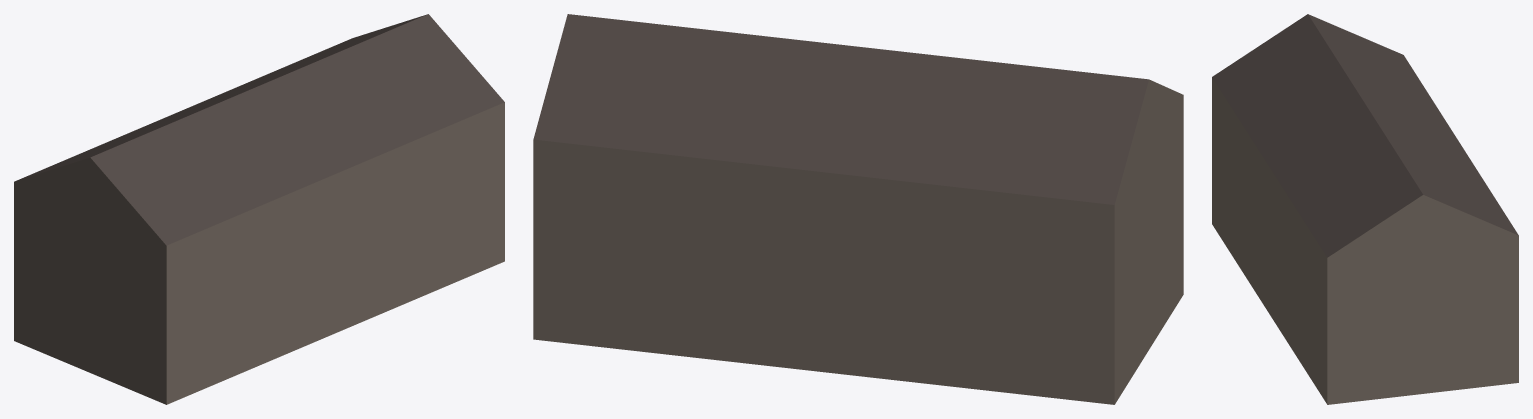
3 views of the same model, side by side, from view 1: azimuth 30°, elevation 25°; view 2: azimuth 150°, elevation 25°; view 3: azimuth 270°, elevation 25° (orthographic). The views are drawn at different scales.
Parts seen in each view (by area): view 1: HP-w1206756581; view 2: HP-w1206756581; view 3: HP-w1206756581.
Boxes of the visible parts, <box> form: HP-w1206756581: <box>14,14,504,404</box>; HP-w1206756581: <box>533,14,1183,404</box>; HP-w1206756581: <box>1212,14,1518,404</box>.
Size of the model in its own units: 26.59 by 12.18 by 17.01.
